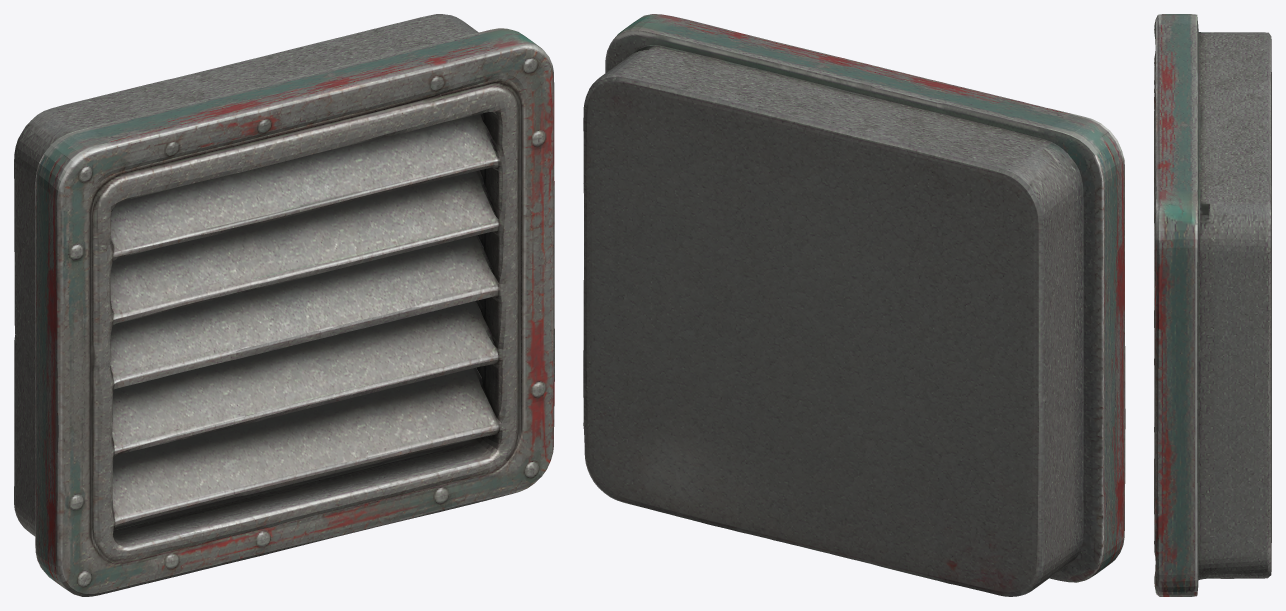
File: Meshy_AI_Rusted_Metal_Louver_V_0623181227_texture.fbx
3 views of the same model, side by side, from view 1: azimuth 30°, elevation 25°; view 2: azimuth 150°, elevation 25°; view 3: azimuth 270°, elevation 25° (orthographic). The views are drawn at different scales.
Parts seen in each view (by area): view 1: temp; view 2: temp; view 3: temp.
Boxes of the visible parts, box(x1,y1,x2,y2) form: temp: box(14, 14, 554, 596); temp: box(583, 14, 1125, 596); temp: box(1154, 14, 1271, 596).
Size of the model in its own units: 191 by 165 by 44.58.
Materials: 1 (1 with a texture image).
